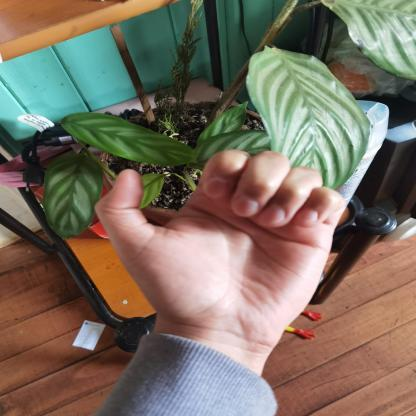E: (80, 140, 358, 357)
